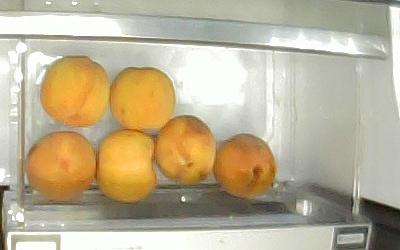peach: (38, 53, 110, 127), (23, 129, 97, 199), (93, 127, 158, 202), (107, 64, 176, 131), (154, 113, 216, 183), (211, 132, 276, 197)
